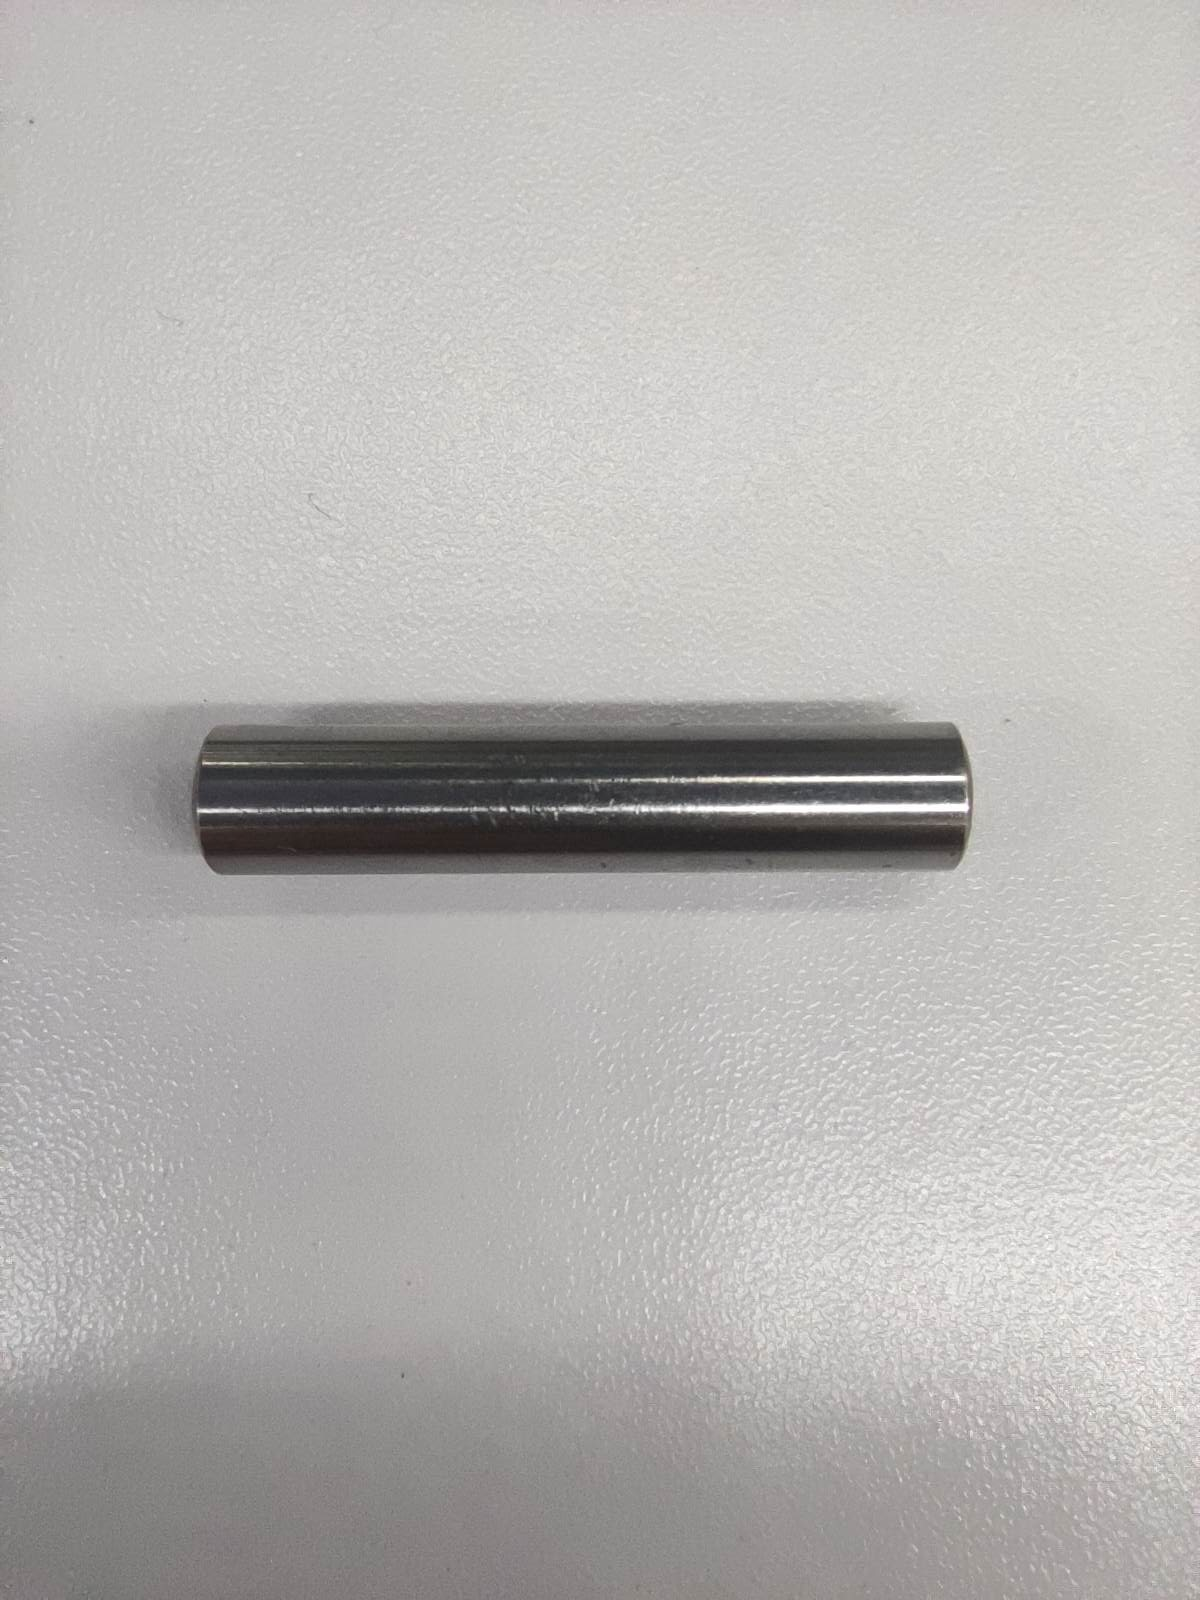销钉: (188, 721, 973, 876)
